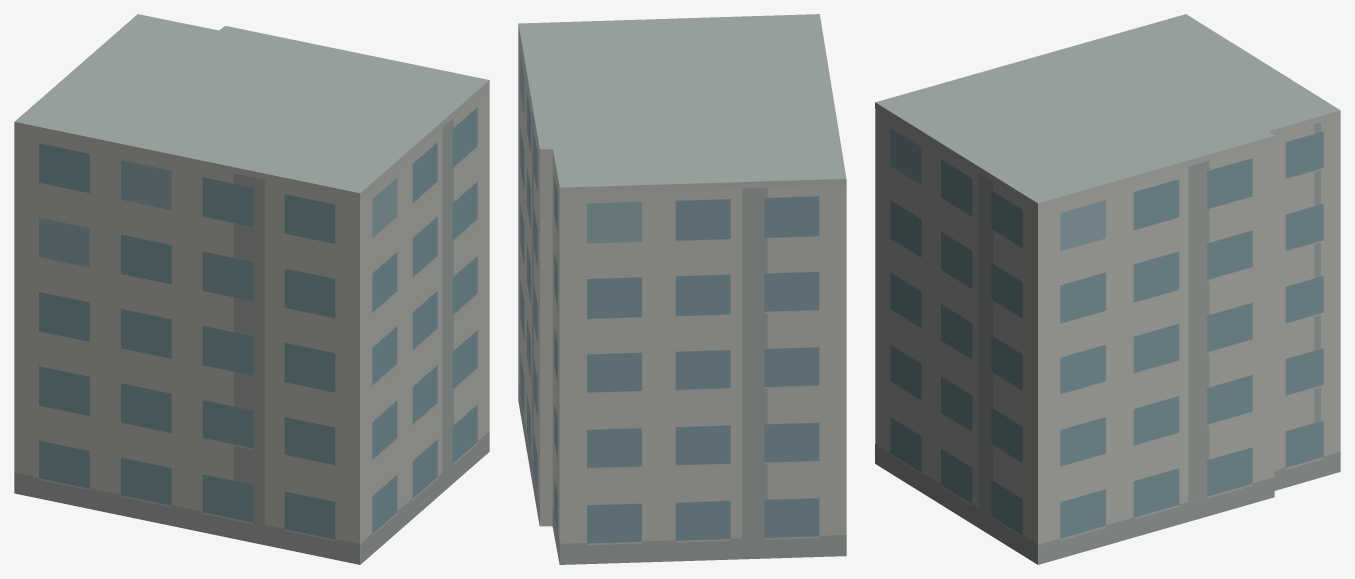
The model's file is survey-upis-33037152.glb.
3 views of the same model, side by side, from view 1: azimuth 30°, elevation 25°; view 2: azimuth 150°, elevation 25°; view 3: azimuth 270°, elevation 25° (orthographic). The views are drawn at different scales.
Parts seen in each view (by area): view 1: survey-upis-33037152.tmp; view 2: survey-upis-33037152.tmp; view 3: survey-upis-33037152.tmp.
Boxes of the visible parts, <box> form: survey-upis-33037152.tmp: <box>14,14,489,564</box>; survey-upis-33037152.tmp: <box>518,14,846,564</box>; survey-upis-33037152.tmp: <box>875,14,1340,564</box>.
Bounding box in the file's own units: 15.97 × 14.2 × 16.58.
